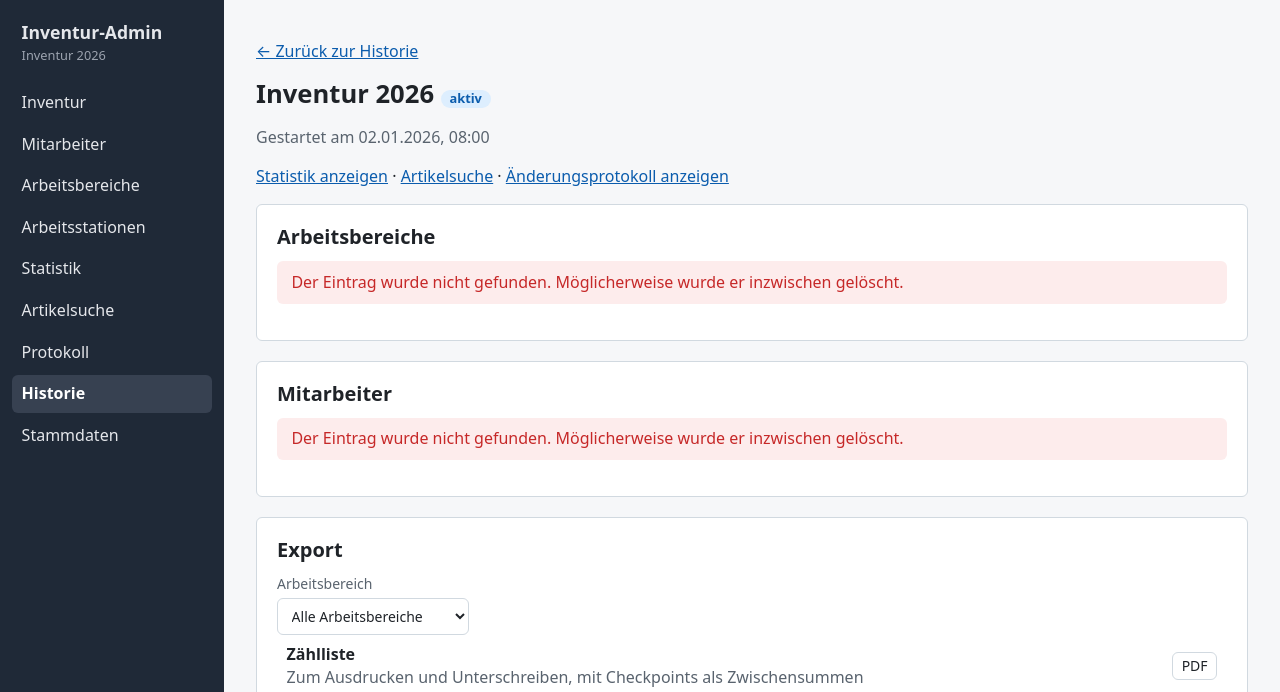
it: statistics dashboard › shows the statistics of a stocktake from the history
Click the link "Statistik anzeigen": (322, 176) top-left (256, 165), bottom-right (388, 187)
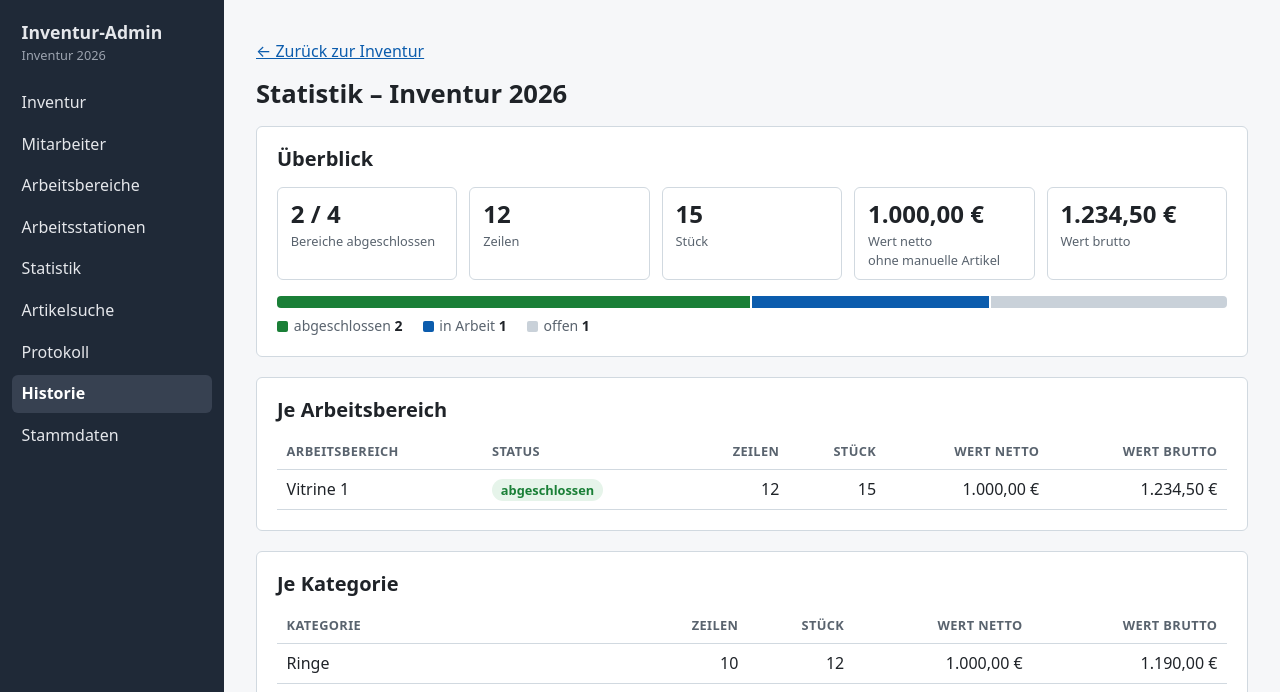
Check: the heading "Überblick" is shown, box top-left (277, 145), bottom-right (373, 172)
Check: the link "← Zurück zur Inventur" is shown, box top-left (256, 40), bottom-right (424, 62)
Check: the heading "Statistik – Inventur 2026" is shown, box top-left (256, 79), bottom-right (567, 110)
